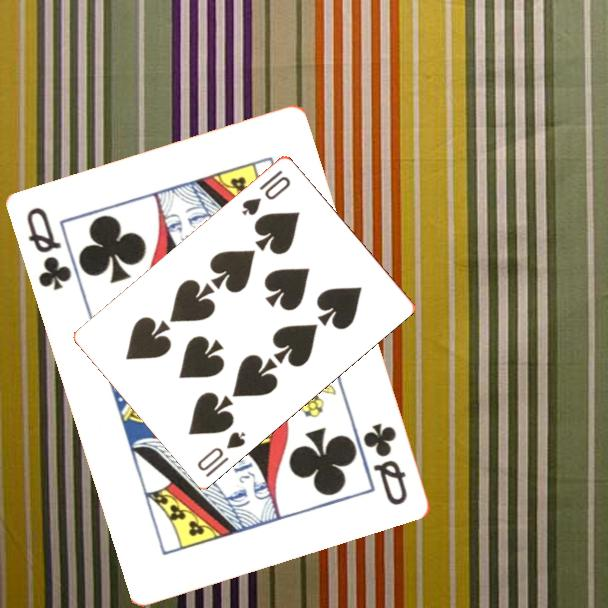c12: (23, 204, 75, 294), (360, 420, 411, 509)
s10: (194, 427, 249, 480), (238, 166, 294, 218)
